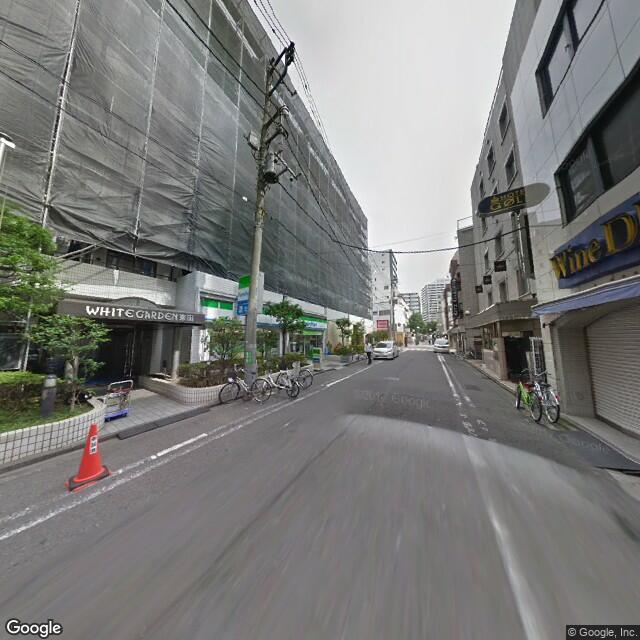family_mart: (199, 294, 329, 333), (237, 269, 254, 309)
